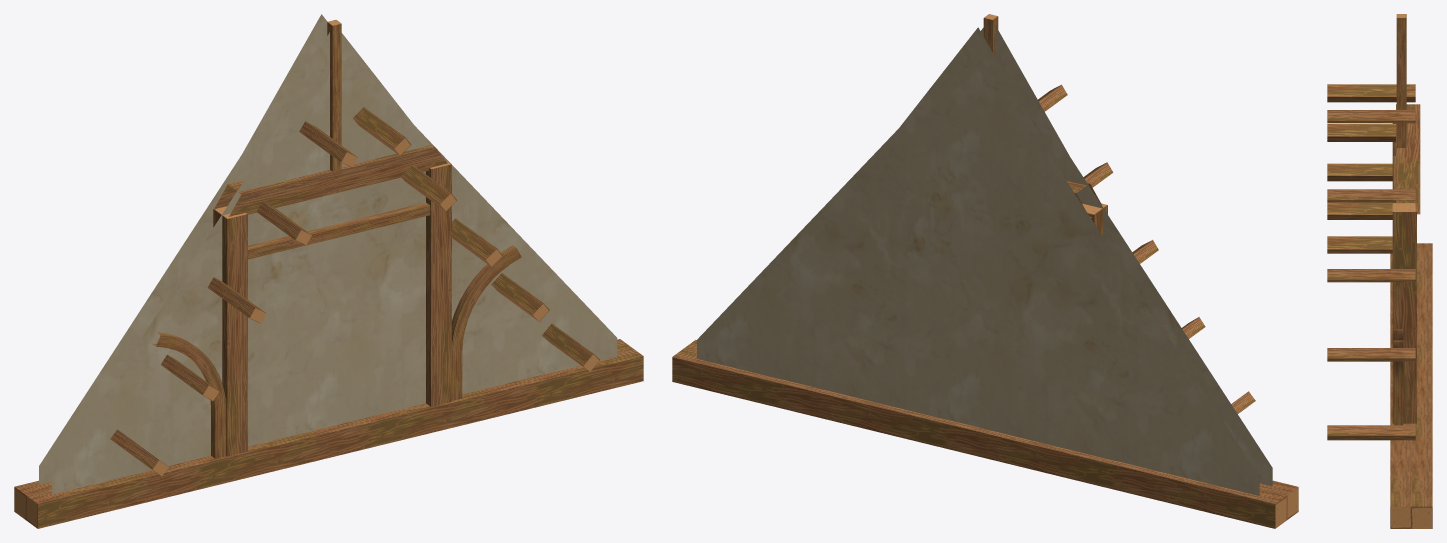
Rendered from Roof_Front_Brick6.glb.
3 views of the same model, side by side, from view 1: azimuth 30°, elevation 25°; view 2: azimuth 150°, elevation 25°; view 3: azimuth 270°, elevation 25° (orthographic). The views are drawn at different scales.
Parts seen in each view (by area): view 1: Roof_Front_Brick6; view 2: Roof_Front_Brick6; view 3: Roof_Front_Brick6.
Boxes of the visible parts, left/top/right/bottom form: Roof_Front_Brick6: left=14, top=14, right=643, bottom=528; Roof_Front_Brick6: left=672, top=14, right=1298, bottom=528; Roof_Front_Brick6: left=1327, top=14, right=1432, bottom=528.
Size of the model in its own units: 6.69 by 4.52 by 1.13.
Materials: 2 (2 with a texture image).
